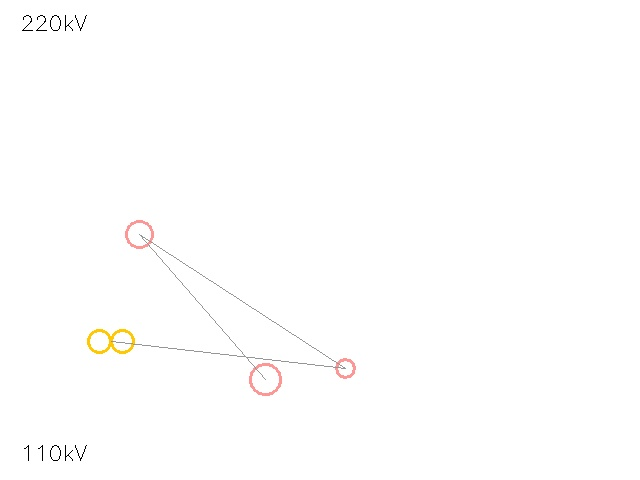feeder_terminal: (235, 349, 295, 409), (326, 349, 364, 387)
transformer_2w: (82, 312, 140, 370)
voltage_transformer: (113, 208, 165, 260)
